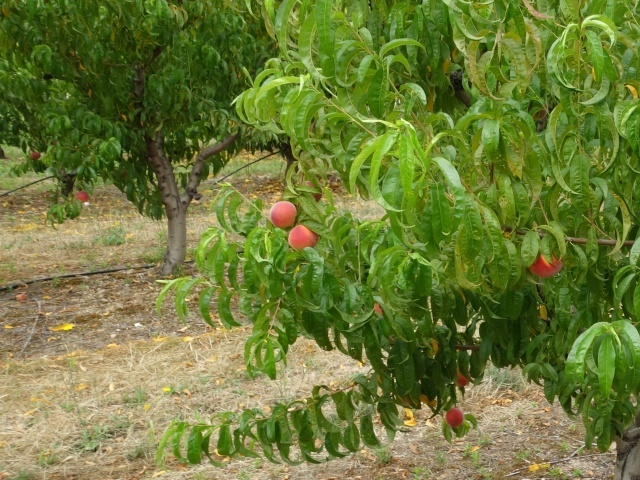peach: (521, 242, 565, 281), (285, 223, 321, 257), (267, 198, 301, 231), (442, 405, 468, 428), (451, 366, 474, 391)
